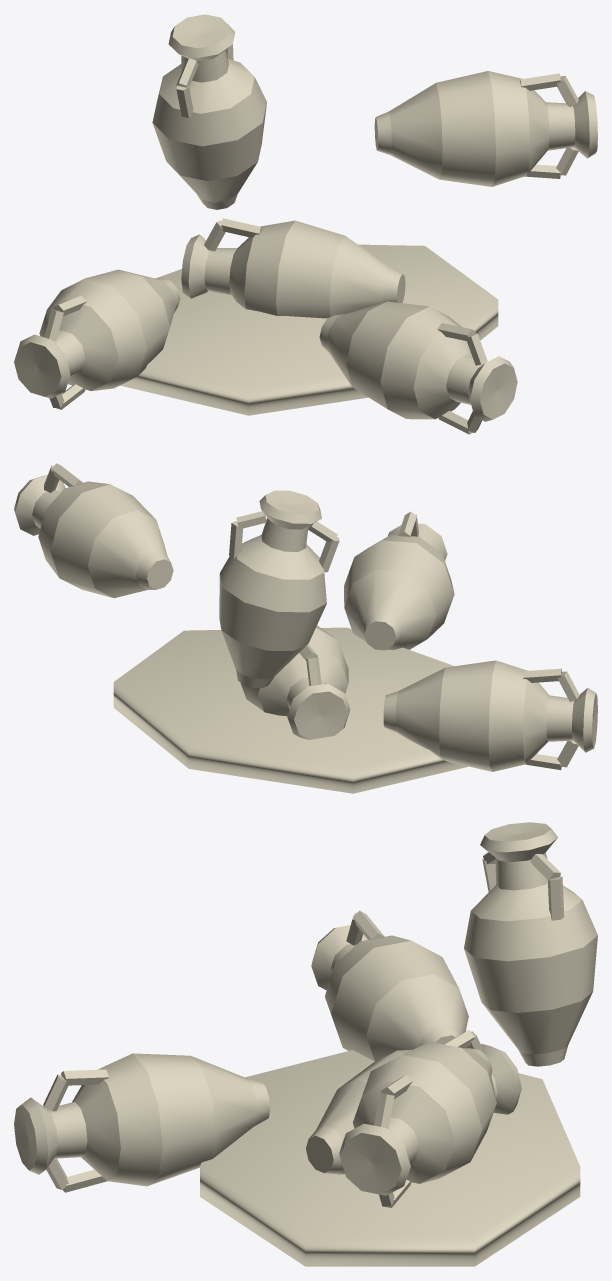
The model's file is sunken-city-and-underwater-ruins-amphora-pile-8443ecca__36976.glb.
3 renders of one model, top to bottom at view 1: azimuth 30°, elevation 25°; view 2: azimuth 150°, elevation 25°; view 3: azimuth 270°, elevation 25°, orthographic. The views are drawn at different scales.
Parts seen in each view (by area): view 1: amphora-pile; view 2: amphora-pile; view 3: amphora-pile.
Part boxes in pixels (bbox=[...]): amphora-pile: bbox=[14, 14, 597, 434]; amphora-pile: bbox=[14, 463, 597, 793]; amphora-pile: bbox=[14, 822, 597, 1266].
Size of the model in its own units: 2.79 by 1.34 by 2.08.
